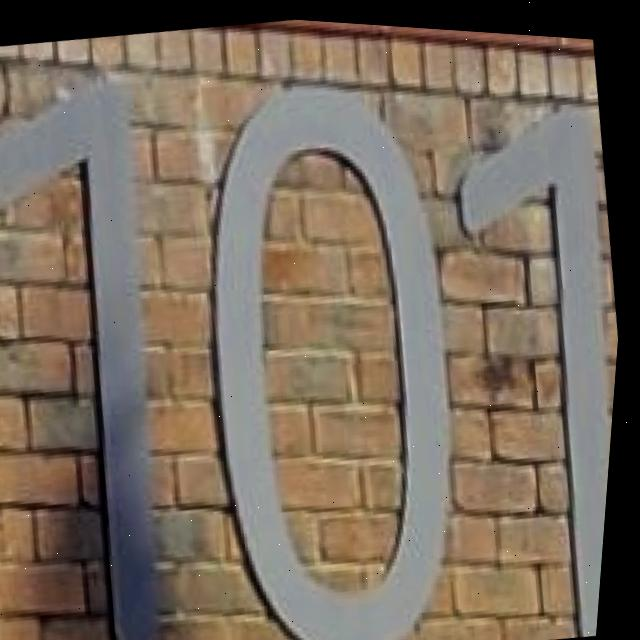character: (140, 55, 517, 640), (0, 56, 238, 640), (401, 74, 637, 640)
